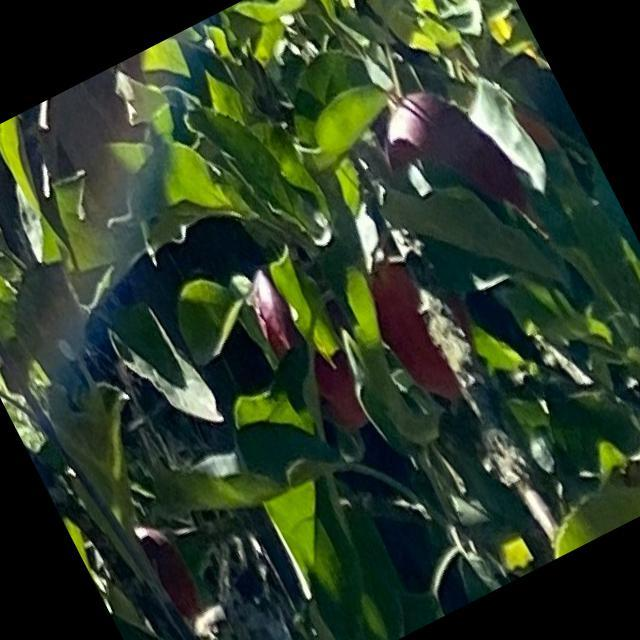100-_ripeness: (236, 238, 394, 444), (366, 67, 536, 258), (346, 225, 499, 416), (125, 514, 211, 632)
